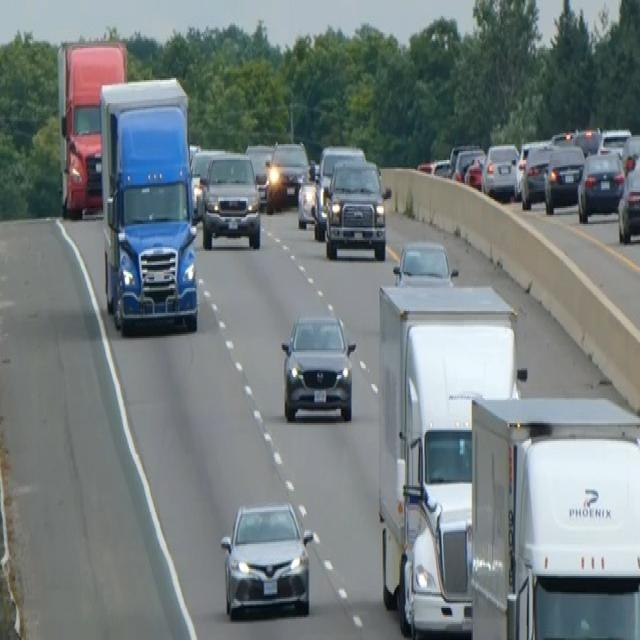car: (219, 499, 314, 618), (280, 311, 356, 421), (200, 151, 261, 249), (312, 142, 365, 238), (576, 148, 624, 222), (392, 238, 458, 286), (543, 140, 585, 213), (266, 138, 308, 210), (189, 146, 225, 218), (481, 141, 519, 199), (520, 140, 552, 208), (617, 154, 639, 243), (244, 142, 273, 208), (296, 158, 320, 228), (451, 144, 484, 183), (598, 126, 631, 158), (572, 126, 600, 155), (463, 153, 485, 188), (621, 131, 639, 169)
jeep: (323, 158, 390, 260)
lorry: (468, 393, 639, 638), (98, 73, 200, 334)
